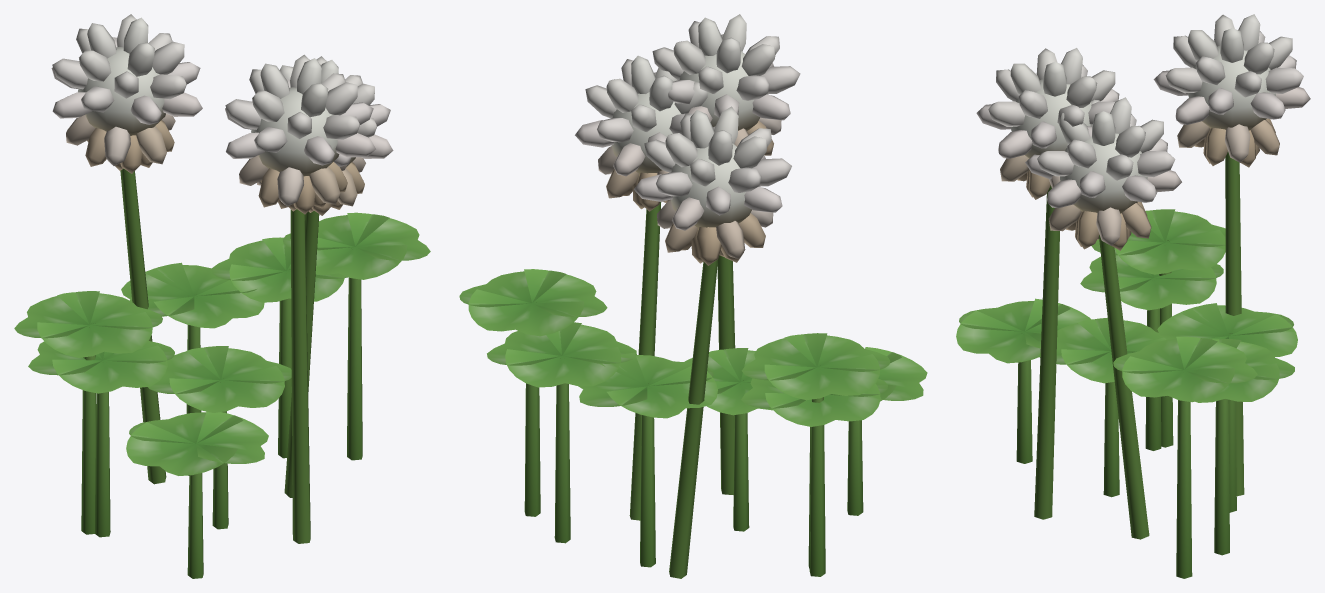
Rendered from Park_WhiteClover.fbx.
3 views of the same model, side by side, from view 1: azimuth 30°, elevation 25°; view 2: azimuth 150°, elevation 25°; view 3: azimuth 270°, elevation 25° (orthographic). The views are drawn at different scales.
Visible parts, largest first — view 1: Park_WhiteClover; view 2: Park_WhiteClover; view 3: Park_WhiteClover.
Boxes of the visible parts, bbox=[...] form: Park_WhiteClover: bbox=[14, 14, 430, 578]; Park_WhiteClover: bbox=[459, 14, 927, 578]; Park_WhiteClover: bbox=[956, 14, 1310, 578].
Bounding box in the file's own units: 2.17 × 2.44 × 1.69.
